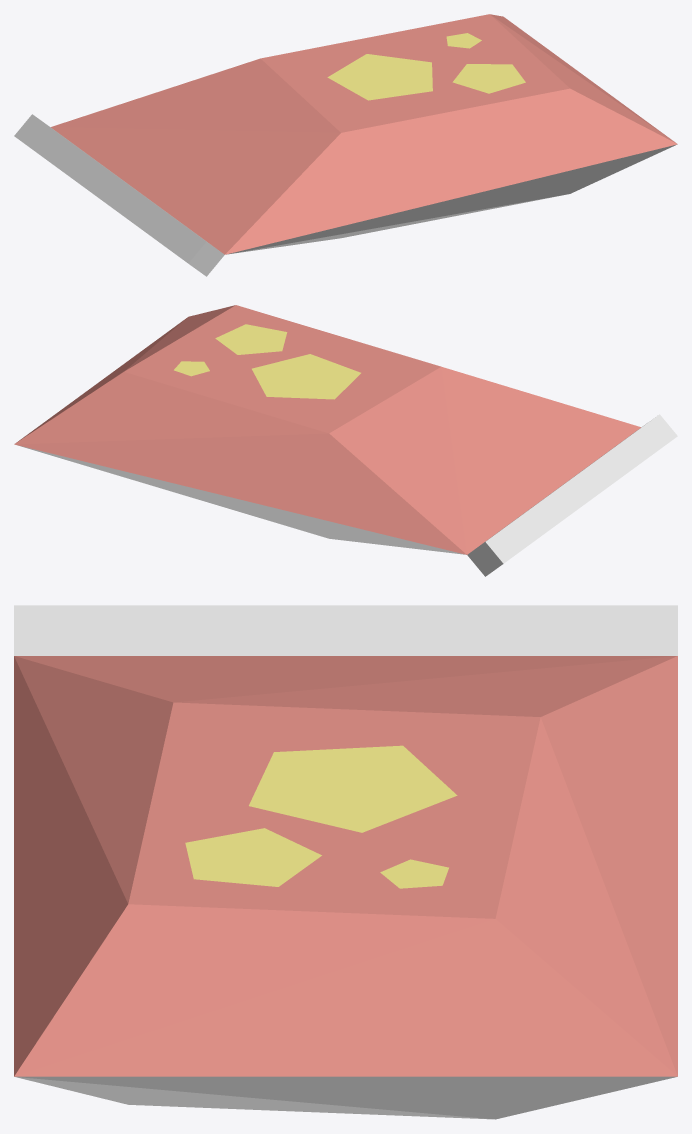
The model's file is Chips.fbx.
3 views of the same model, one above another, from view 1: azimuth 30°, elevation 25°; view 2: azimuth 150°, elevation 25°; view 3: azimuth 270°, elevation 25° (orthographic). The views are drawn at different scales.
Parts seen in each view (by area): view 1: Chips; view 2: Chips; view 3: Chips.
Boxes of the visible parts, x1=… form: Chips: x1=14, y1=14, x2=677, y2=276; Chips: x1=14, y1=305, x2=677, y2=576; Chips: x1=14, y1=605, x2=677, y2=1119.
Bounding box in the file's own units: 0.2918 × 0.06 × 0.18.
